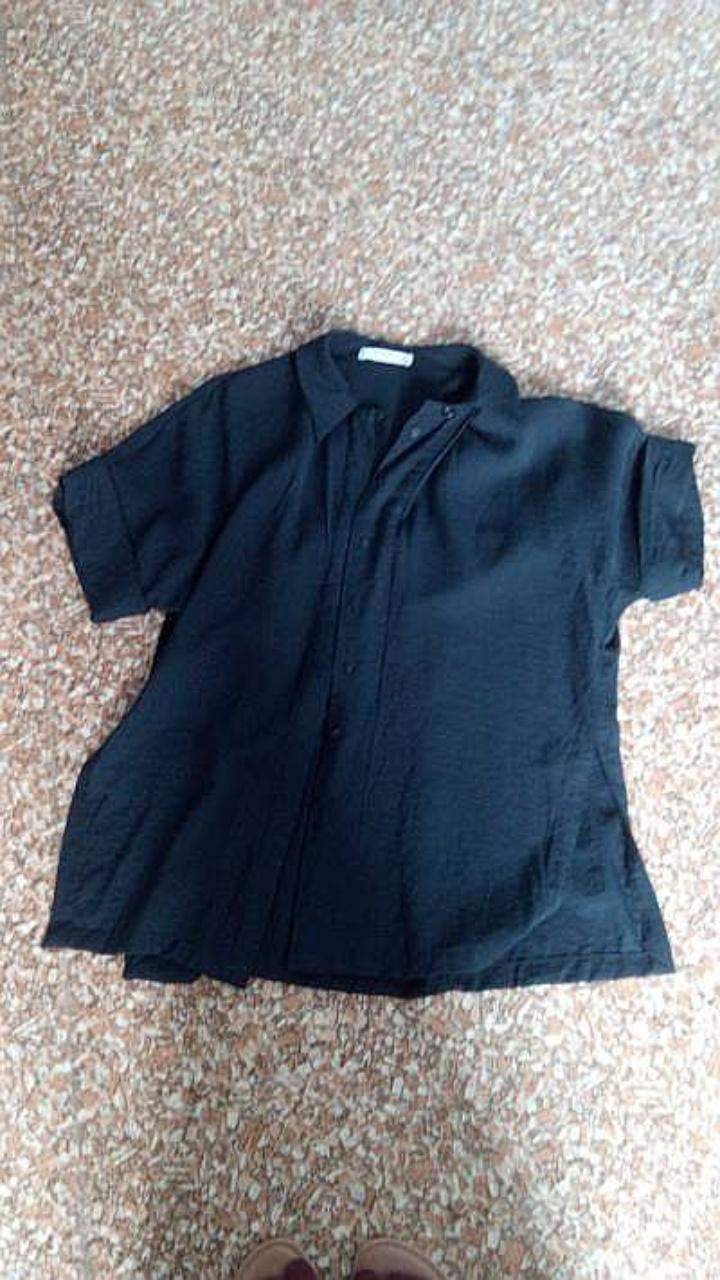T-Shirt: (41, 329, 702, 995)
